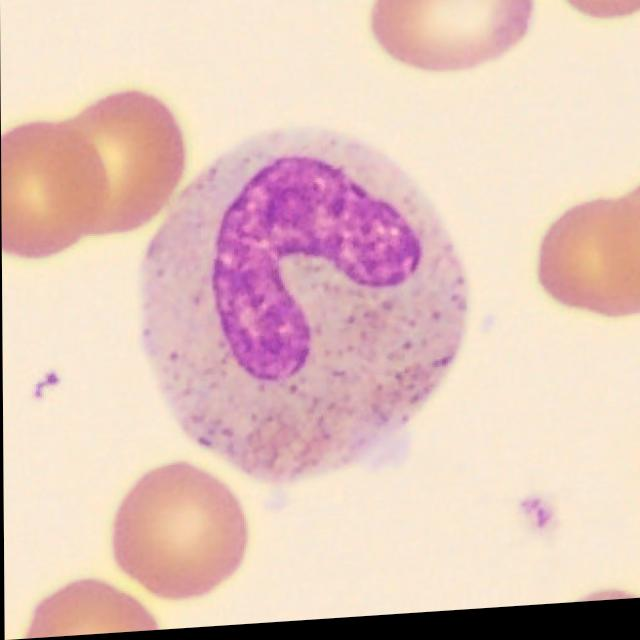Bastonete: (138, 131, 468, 483)
